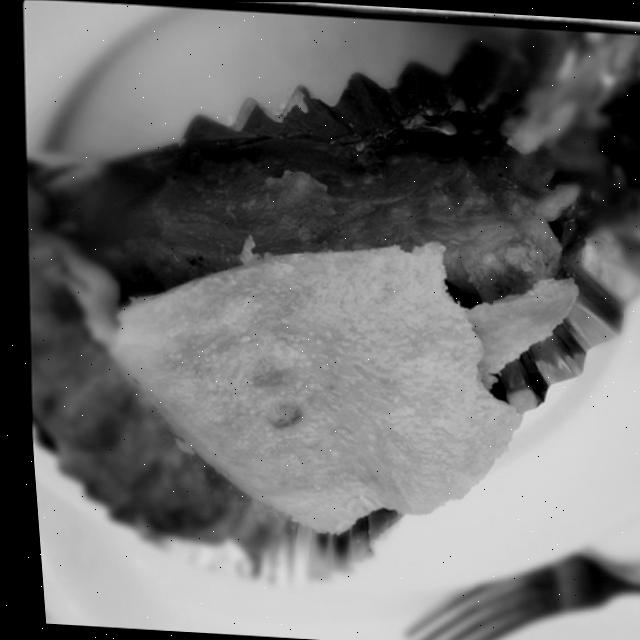炸货点心: (2, 39, 640, 629)
蛋糕甜品: (2, 39, 640, 629)
